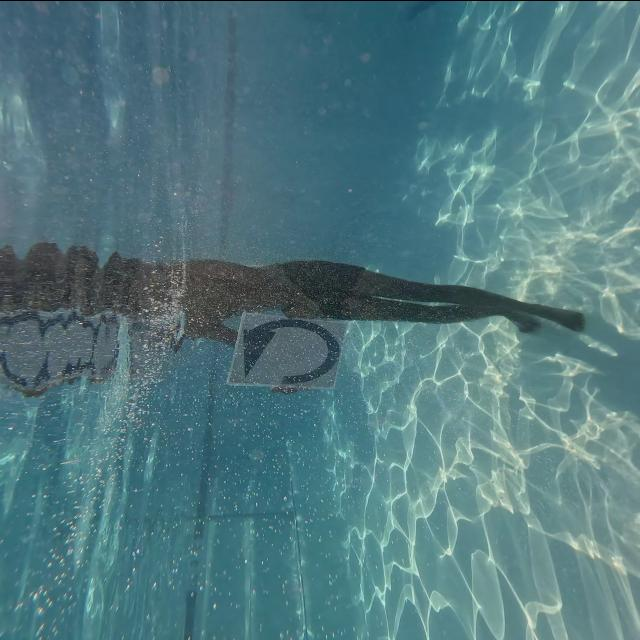blue_side: (221, 312, 341, 388)
